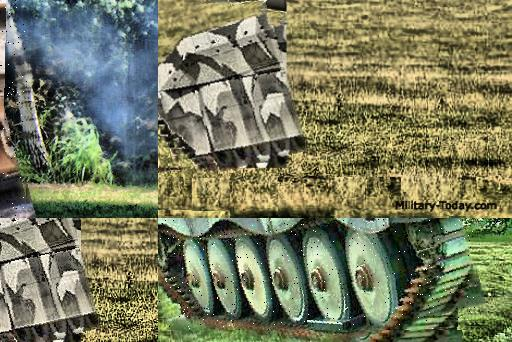tanks: (159, 219, 477, 331), (159, 1, 308, 169), (1, 219, 101, 342), (202, 1, 240, 3)
